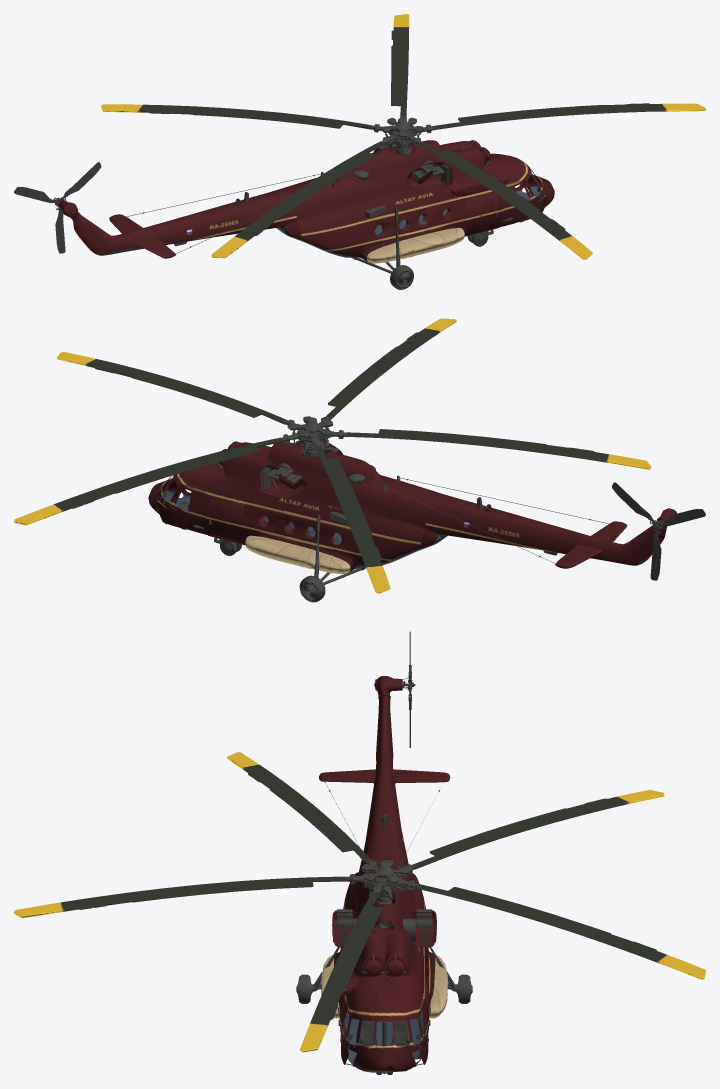
3 renders of one model, top to bottom at view 1: azimuth 30°, elevation 25°; view 2: azimuth 150°, elevation 25°; view 3: azimuth 270°, elevation 25°, orthographic. The views are drawn at different scales.
Visible parts, largest first — view 1: sub01_0, MainRotor, Mi8AMT_AltayAvia, sub02_0, TailRotor; view 2: sub01_0, MainRotor, sub02_0, Mi8AMT_AltayAvia, TailRotor; view 3: MainRotor, sub01_0, Mi8AMT_AltayAvia, sub02_0.
Part boxes in pixels (box(x1,y1,x2,y2)): sub01_0: box(58, 140, 554, 257); MainRotor: box(101, 14, 705, 259); Mi8AMT_AltayAvia: box(126, 140, 547, 289); sub02_0: box(70, 177, 533, 263); TailRotor: box(14, 162, 101, 253); sub01_0: box(148, 442, 676, 568); MainRotor: box(14, 318, 651, 593); sub02_0: box(171, 481, 676, 572); Mi8AMT_AltayAvia: box(155, 441, 608, 602); TailRotor: box(612, 482, 705, 580); MainRotor: box(14, 752, 705, 1052); sub01_0: box(340, 676, 450, 1072); Mi8AMT_AltayAvia: box(296, 781, 472, 1074); sub02_0: box(319, 679, 435, 1042).
Bounding box in the file's own units: 25.37 × 6.16 × 20.1.
1 material, 1 textured.
